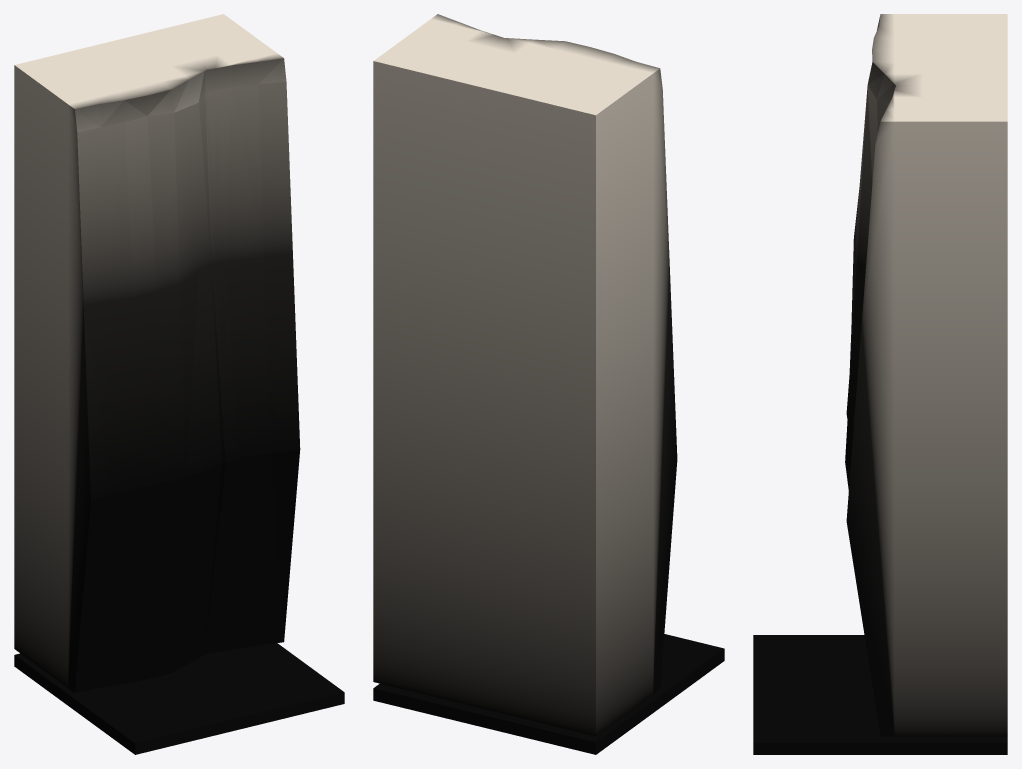
Rendered from SM_VKI_Ground_Cave_XXOO_Q11.fbx.
3 renders of one model, left to right at view 1: azimuth 30°, elevation 25°; view 2: azimuth 150°, elevation 25°; view 3: azimuth 270°, elevation 25°, orthographic. The views are drawn at different scales.
Visible parts, largest first — view 1: SM_VKI_Ground_Cave_XXOO_Q11.001; view 2: SM_VKI_Ground_Cave_XXOO_Q11.001; view 3: SM_VKI_Ground_Cave_XXOO_Q11.001.
Boxes of the visible parts, x1=… form: SM_VKI_Ground_Cave_XXOO_Q11.001: x1=14, y1=14, x2=344, y2=754; SM_VKI_Ground_Cave_XXOO_Q11.001: x1=373, y1=14, x2=724, y2=754; SM_VKI_Ground_Cave_XXOO_Q11.001: x1=753, y1=14, x2=1007, y2=754.
Size of the model in its own units: 1.5 by 4.12 by 1.5.
